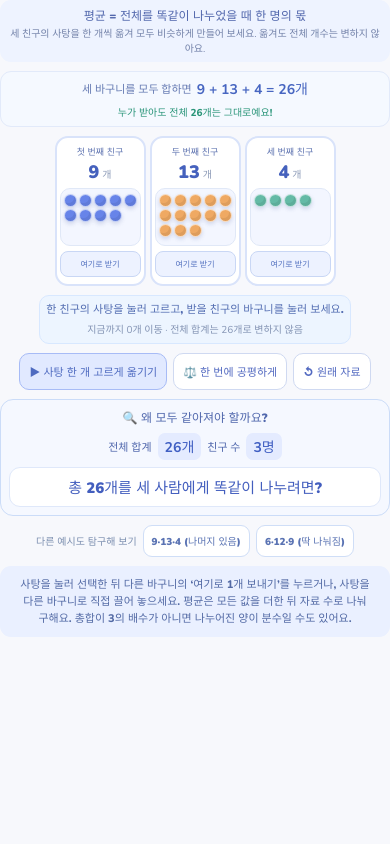
평균은 고르게 나누기 › 두 친구 사이에서 사탕을 옮겨도 합계 26개는 변하지 않는다
The width and height of the screenshot is (390, 844).
Step 1. Click the button named "두 번째 친구 1번째 사탕 선택해 옮기기" → x=165, y=200, box x1=158 y1=194 x2=172 y2=207
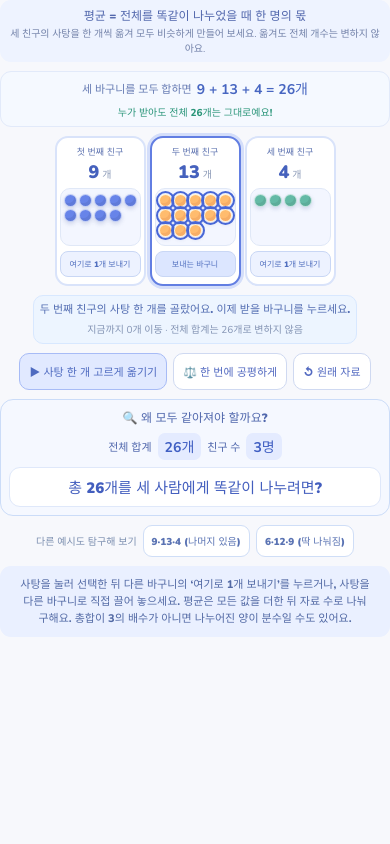
Step 2. Click the button with aria-label "첫 번째 친구에게 사탕 한 개 전달" → x=100, y=264, box x1=60 y1=251 x2=140 y2=277
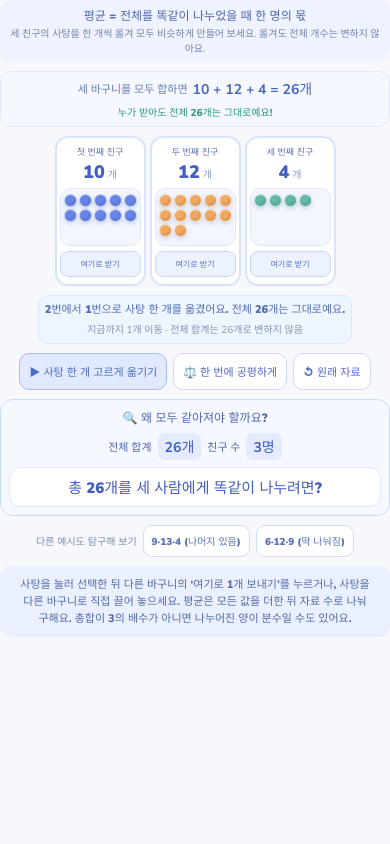
Expected: the text "누가 받아도 전체 26개는 그대로예요!" is shown, x1=118 y1=104 x2=272 y2=120
Now the text "10 + 12 + 4 = 26개" is shown, box x1=192 y1=78 x2=312 y2=99
